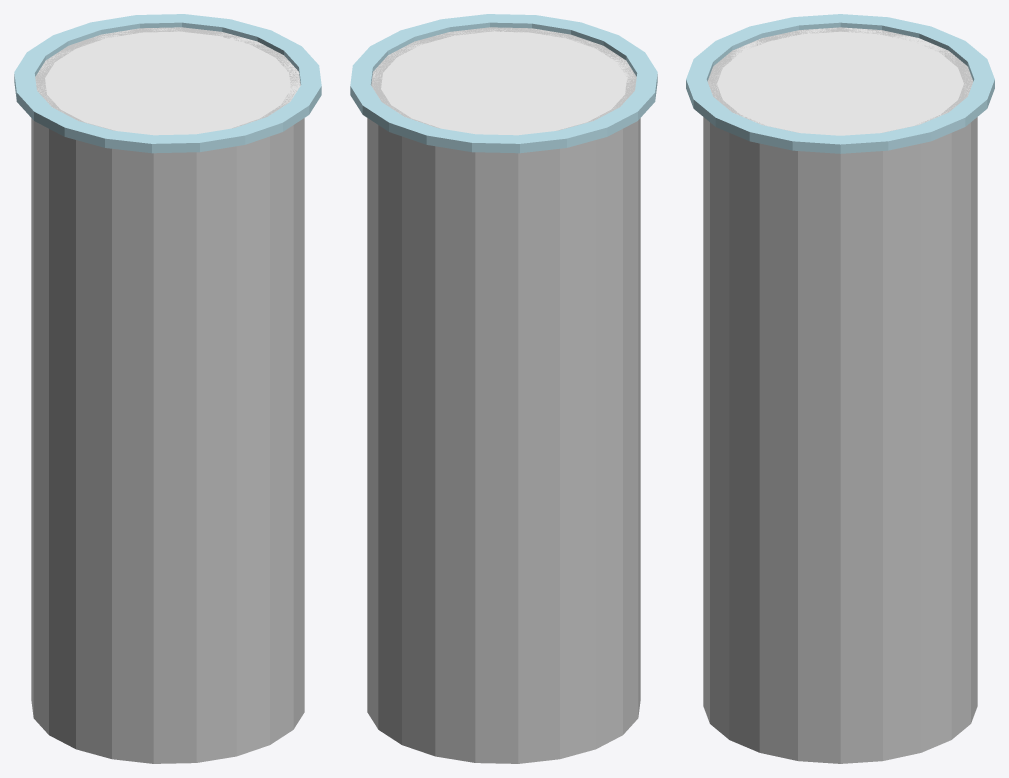
The model's file is portal5c0fa2e4.glb.
3 views of the same model, side by side, from view 1: azimuth 30°, elevation 25°; view 2: azimuth 150°, elevation 25°; view 3: azimuth 270°, elevation 25° (orthographic).
Visible parts, largest first — view 1: portalMask, center, portal__1_; view 2: portalMask, center, portal__1_; view 3: portalMask, center, portal__1_.
Boxes of the visible parts, <box> form: portalMask: <box>31,27,304,763</box>; center: <box>36,27,300,135</box>; portal__1_: <box>14,14,321,153</box>; portalMask: <box>367,27,640,763</box>; center: <box>372,28,635,135</box>; portal__1_: <box>350,14,657,153</box>; portalMask: <box>703,27,977,763</box>; center: <box>709,27,972,135</box>; portal__1_: <box>686,14,994,153</box>.
Bounding box in the file's own units: 4.5 × 10.08 × 4.5.
